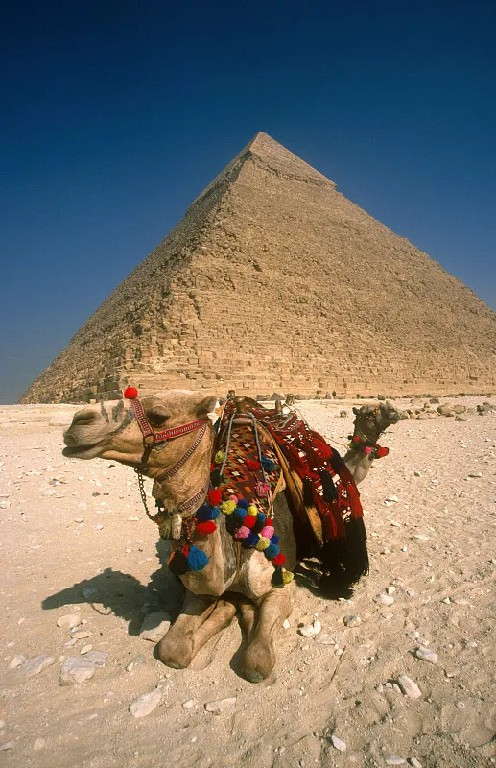Pyramid: (19, 131, 496, 403)
